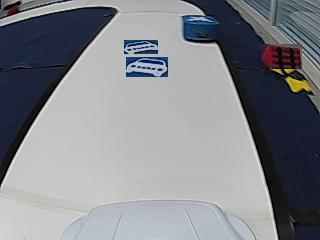prop: (183, 16, 220, 43)
